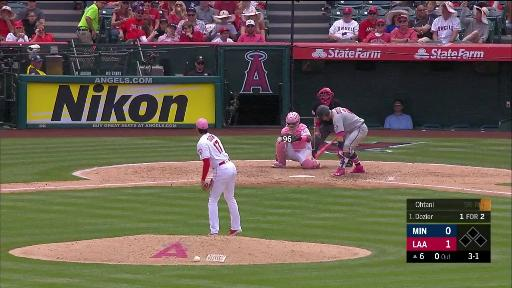pitcher: (194, 117, 245, 236)
